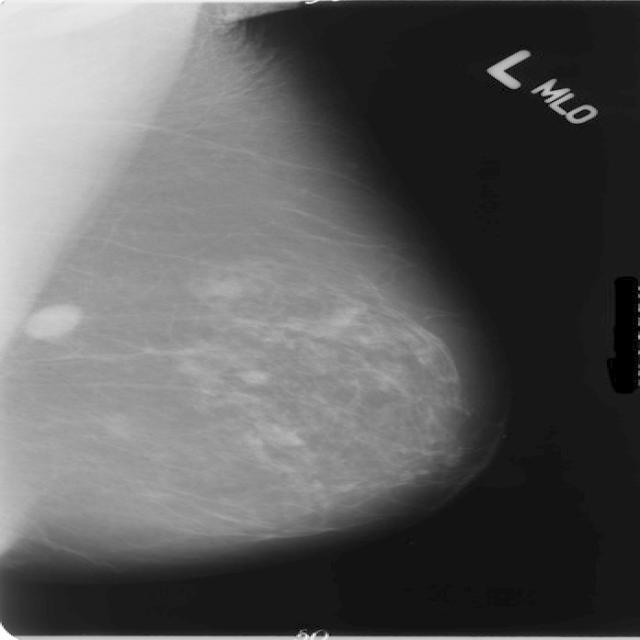tumour: (24, 303, 81, 339)
